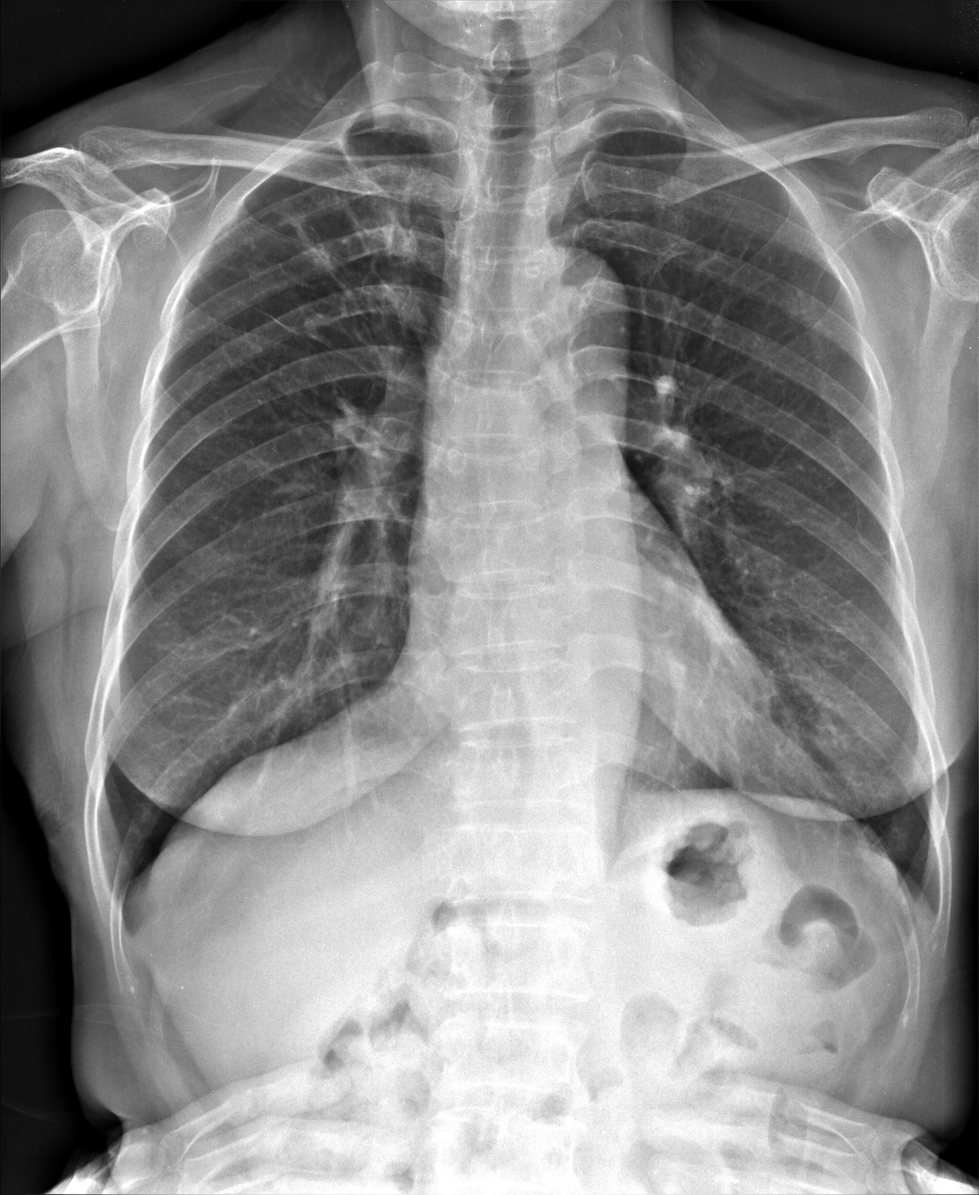Pleural thickening: (94, 861, 161, 921), (901, 865, 946, 942)
Pulmonary fibrosis: (235, 189, 373, 351)
